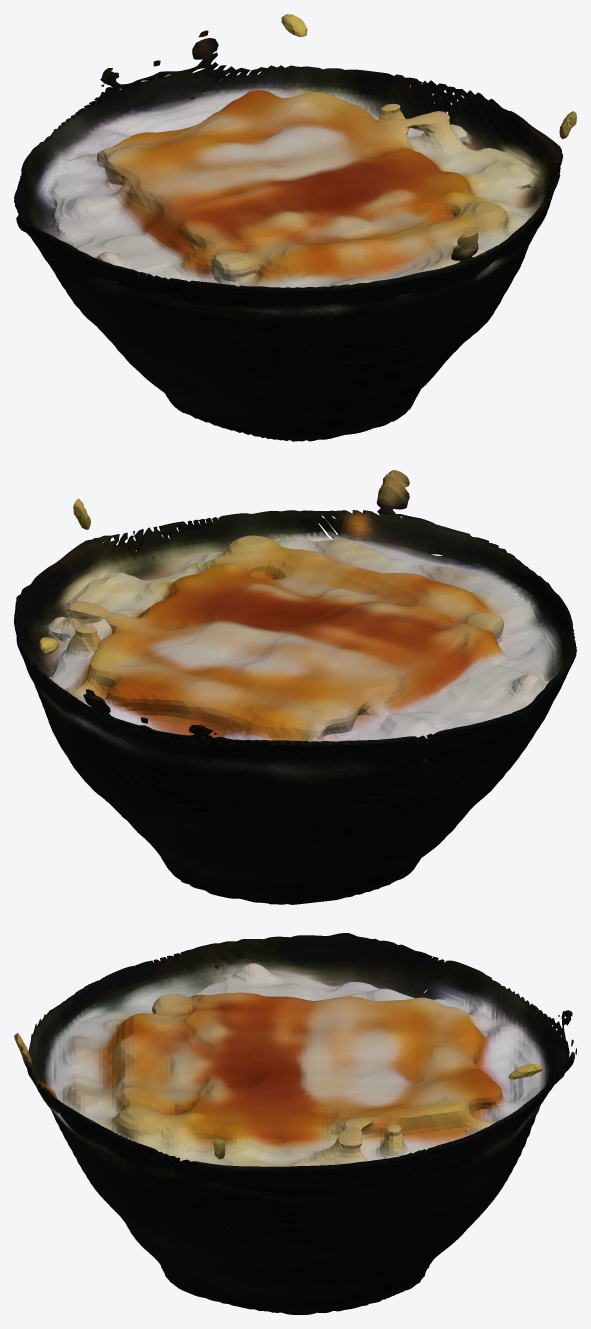
The model's file is abowloframen.glb.
3 views of the same model, one above another, from view 1: azimuth 30°, elevation 25°; view 2: azimuth 150°, elevation 25°; view 3: azimuth 270°, elevation 25° (orthographic). The views are drawn at different scales.
Visible parts, largest first — view 1: a bowl of ramen.ply; view 2: a bowl of ramen.ply; view 3: a bowl of ramen.ply.
Part boxes in pixels (x1=…): a bowl of ramen.ply: x1=14, y1=14, x2=576, y2=441; a bowl of ramen.ply: x1=14, y1=470, x2=576, y2=904; a bowl of ramen.ply: x1=14, y1=933, x2=576, y2=1314.
Bounding box in the file's own units: 1.98 × 0.9768 × 1.95.
